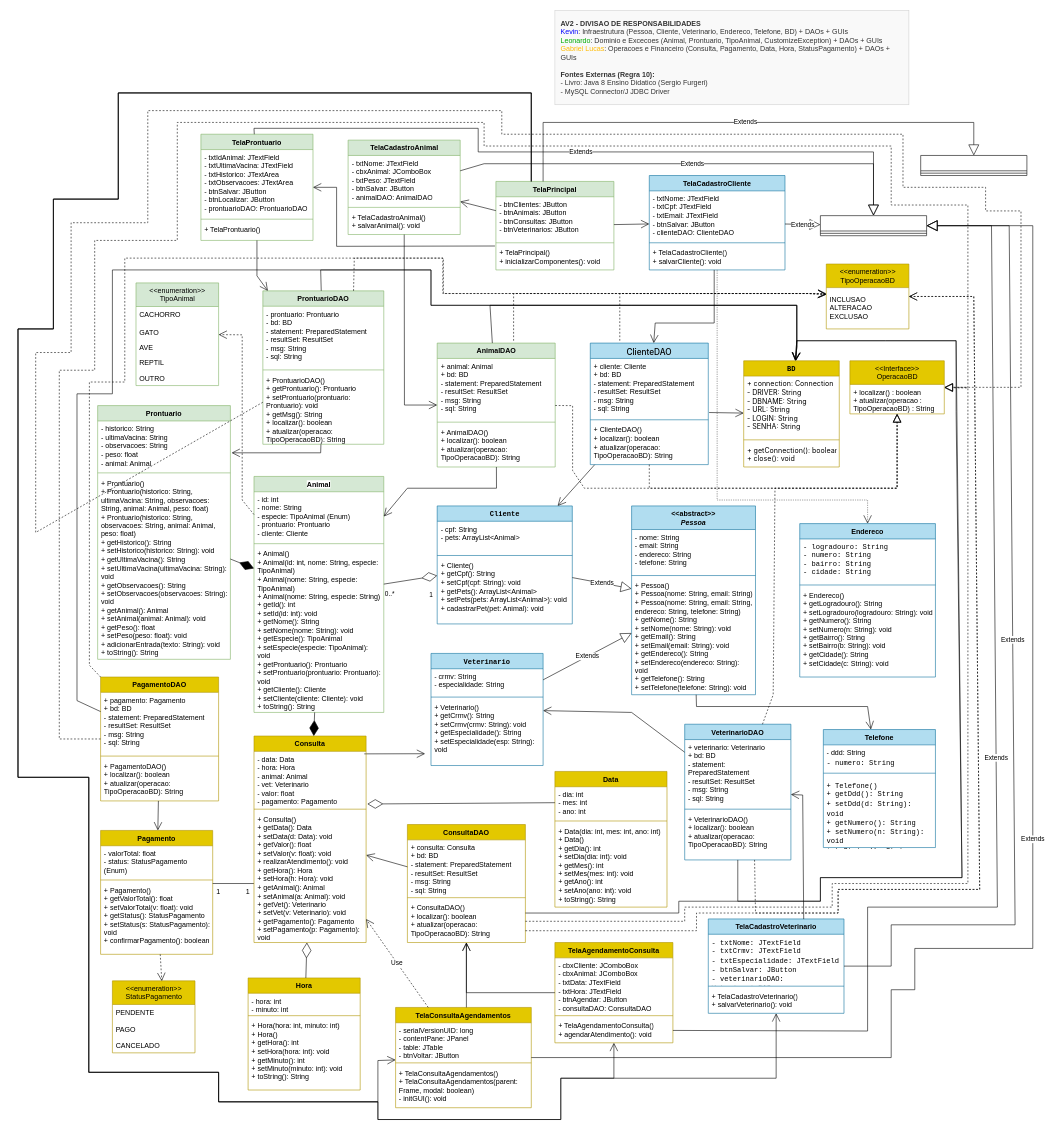
Image size: 1055x1138. Some labels were removed from this diagram. Each missing label, with the centre of its shape:
JDialog: the point at 873,225
JFrame: the point at 973,165
